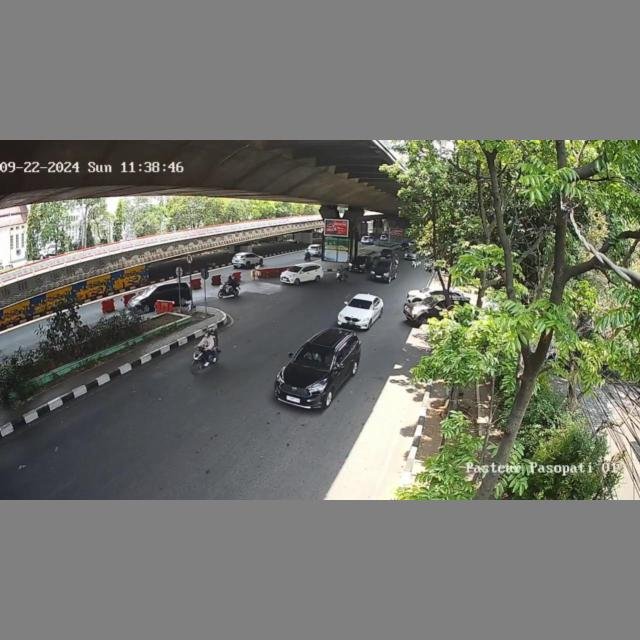windshield: (293, 343, 336, 369), (348, 298, 372, 311), (375, 262, 390, 269)
